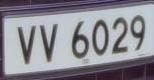0: (91, 14, 112, 62)
2: (111, 11, 131, 60)
6: (69, 17, 92, 65)
9: (129, 9, 148, 57)
V: (37, 20, 62, 66), (15, 23, 39, 67)
